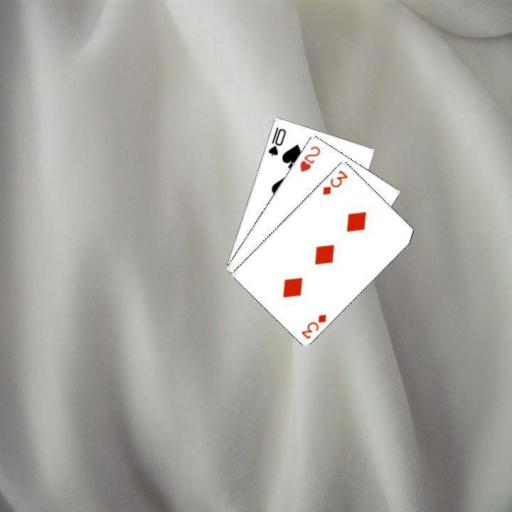card-corner: (319, 166, 349, 196), (298, 310, 328, 340), (297, 142, 322, 174), (266, 123, 288, 157)
